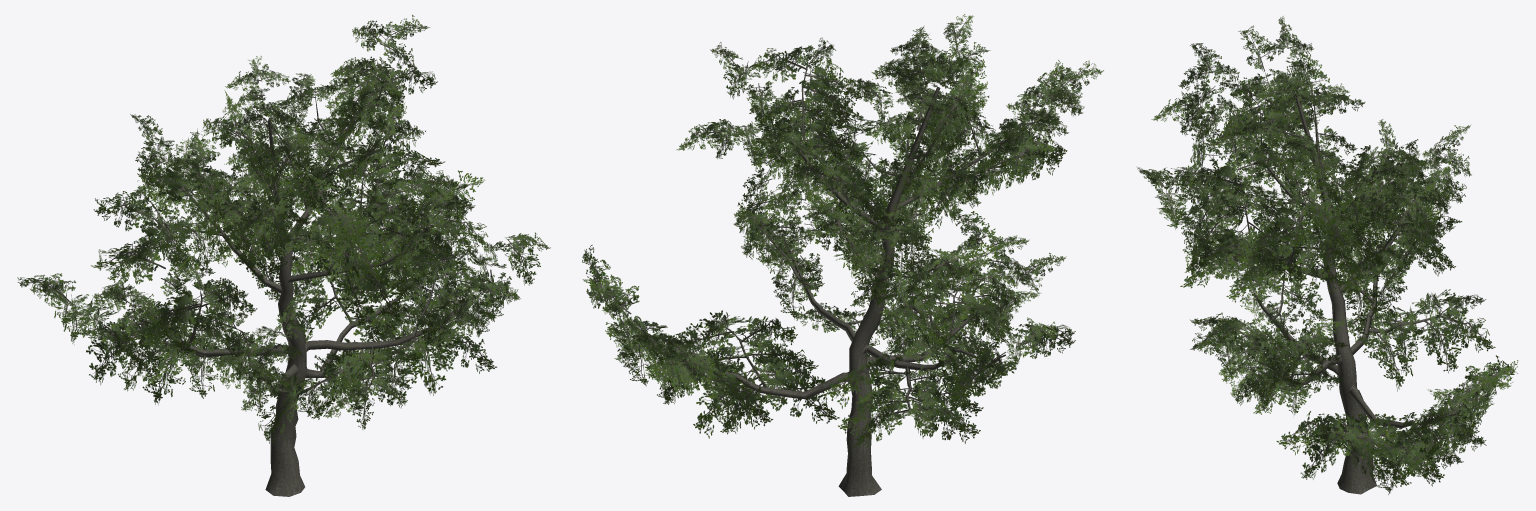
Rendered from oak_tree_tactical.glb.
3 renders of one model, left to right at view 1: azimuth 30°, elevation 25°; view 2: azimuth 150°, elevation 25°; view 3: azimuth 270°, elevation 25°, orthographic. The views are drawn at different scales.
Visible parts, largest first — view 1: Big_oak_tree__001_LOD1; view 2: Big_oak_tree__001_LOD1; view 3: Big_oak_tree__001_LOD1.
Boxes of the visible parts, <box> form: Big_oak_tree__001_LOD1: <box>17,14,550,496</box>; Big_oak_tree__001_LOD1: <box>582,14,1103,496</box>; Big_oak_tree__001_LOD1: <box>1137,16,1518,494</box>.
Size of the model in its own units: 20.51 by 19.46 by 15.65.
Materials: 2 (2 with a texture image).
